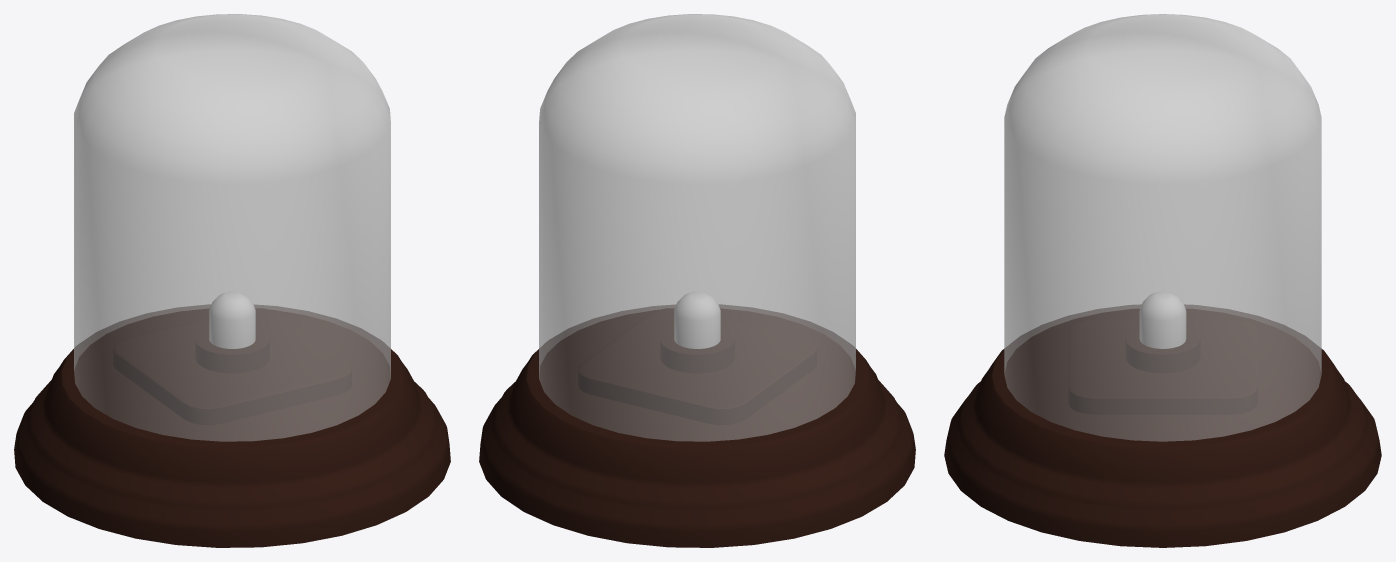
File: Siren light.fbx
3 views of the same model, side by side, from view 1: azimuth 30°, elevation 25°; view 2: azimuth 150°, elevation 25°; view 3: azimuth 270°, elevation 25° (orthographic).
Visible parts, largest first — view 1: Glass, Stand, Light Bulb; view 2: Glass, Stand, Light Bulb; view 3: Glass, Stand, Light Bulb.
Boxes of the visible parts, left/top/right/bottom form: Glass: left=74, top=14, right=390, bottom=441; Stand: left=14, top=304, right=450, bottom=547; Light Bulb: left=209, top=291, right=255, bottom=348; Glass: left=539, top=14, right=855, bottom=441; Stand: left=479, top=304, right=915, bottom=547; Light Bulb: left=674, top=291, right=720, bottom=348; Glass: left=1004, top=14, right=1321, bottom=441; Stand: left=944, top=304, right=1381, bottom=547; Light Bulb: left=1139, top=291, right=1186, bottom=348.
Size of the model in its own units: 0.2 by 0.2059 by 0.2.
